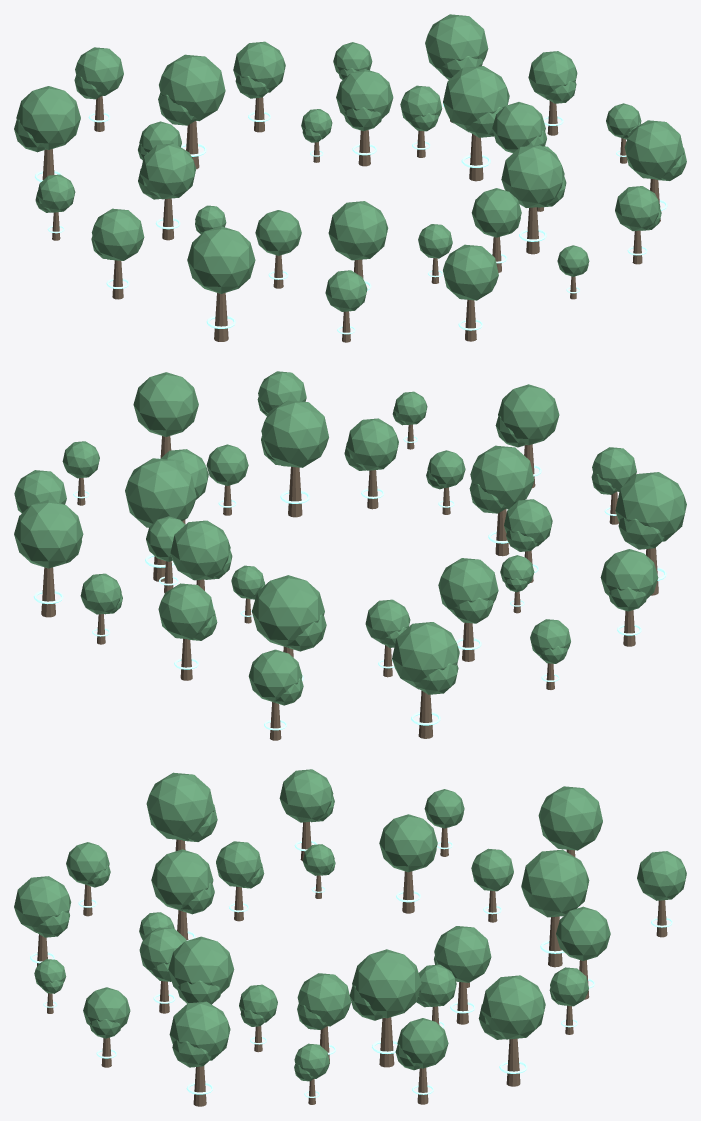
The model's file is mind_spark_grove_zone.glb.
3 views of the same model, one above another, from view 1: azimuth 30°, elevation 25°; view 2: azimuth 150°, elevation 25°; view 3: azimuth 270°, elevation 25° (orthographic). The views are drawn at different scales.
Parts seen in each view (by area): view 1: MindSparkGroveZone; view 2: MindSparkGroveZone; view 3: MindSparkGroveZone.
Part boxes in pixels (x1=…): MindSparkGroveZone: x1=14, y1=14, x2=686, y2=342; MindSparkGroveZone: x1=14, y1=371, x2=686, y2=740; MindSparkGroveZone: x1=14, y1=769, x2=686, y2=1106.
Bounding box in the file's own units: 82.43 × 15.84 × 86.15.
